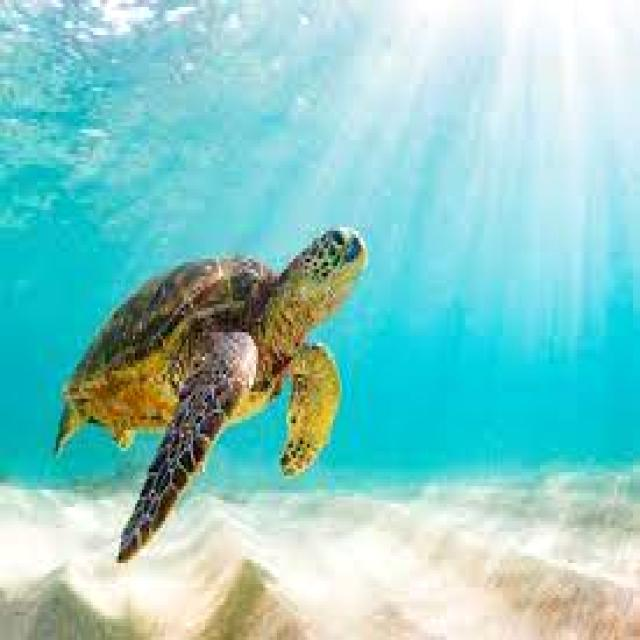Sea turtle: (56, 226, 371, 564)
